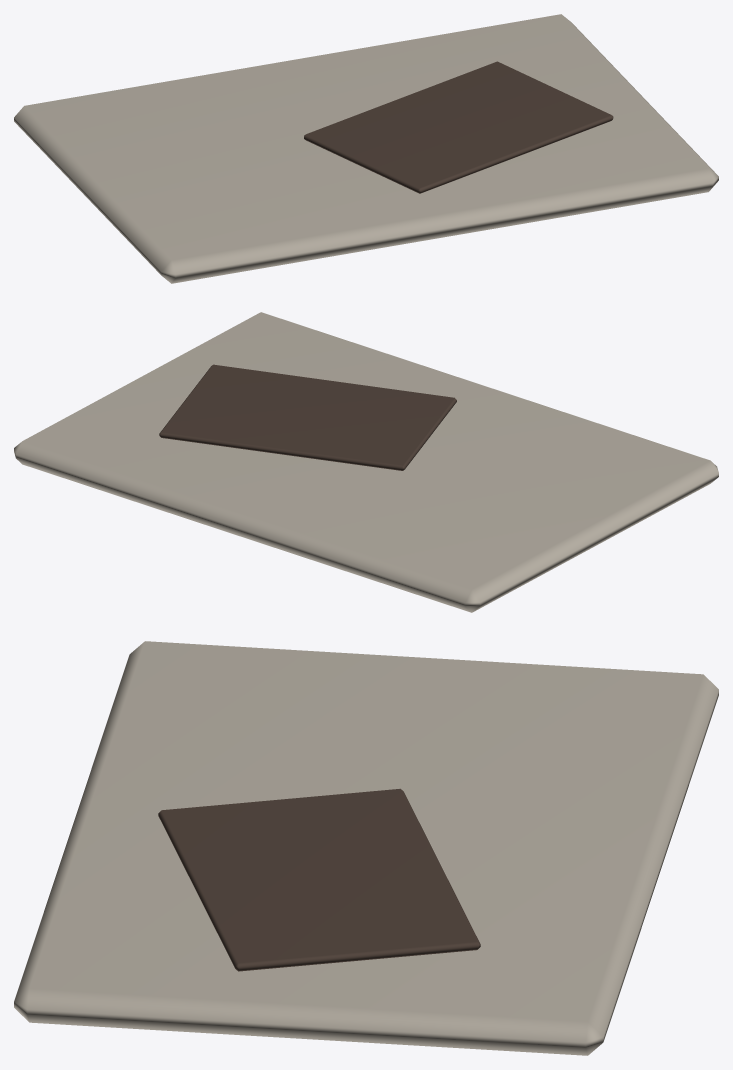
File: prop_dirty_floor_cloth_01.glb
3 views of the same model, one above another, from view 1: azimuth 30°, elevation 25°; view 2: azimuth 150°, elevation 25°; view 3: azimuth 270°, elevation 25° (orthographic). The views are drawn at different scales.
Visible parts, largest first — view 1: dirty_cloth_main.001, dirty_cloth_dark_stain.001; view 2: dirty_cloth_main.001, dirty_cloth_dark_stain.001; view 3: dirty_cloth_main.001, dirty_cloth_dark_stain.001.
Part boxes in pixels (left/top/right/bottom): dirty_cloth_main.001: left=14, top=14, right=718, bottom=283; dirty_cloth_dark_stain.001: left=304, top=61, right=613, bottom=193; dirty_cloth_main.001: left=14, top=312, right=718, bottom=612; dirty_cloth_dark_stain.001: left=159, top=364, right=456, bottom=470; dirty_cloth_main.001: left=14, top=641, right=718, bottom=1055; dirty_cloth_dark_stain.001: left=158, top=788, right=480, bottom=971.
Bounding box in the file's own units: 0.5947 × 0.03 × 0.4501.
